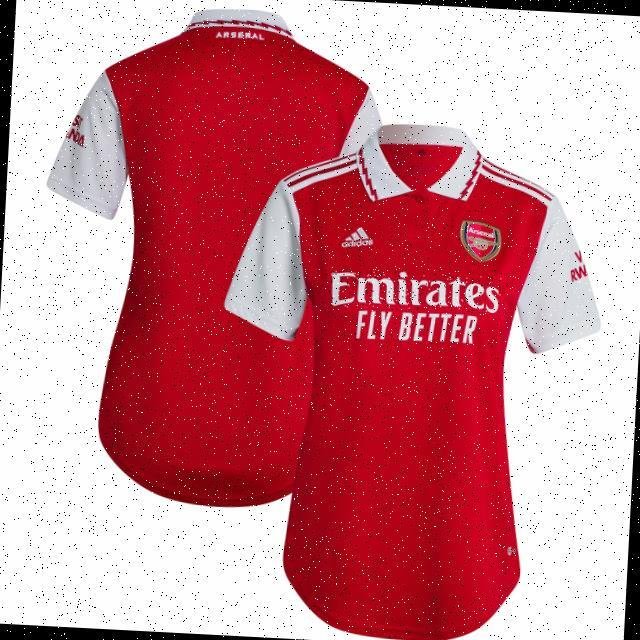Adidas: (341, 225, 375, 250), (416, 147, 428, 156)
Emirates: (330, 269, 502, 316)
